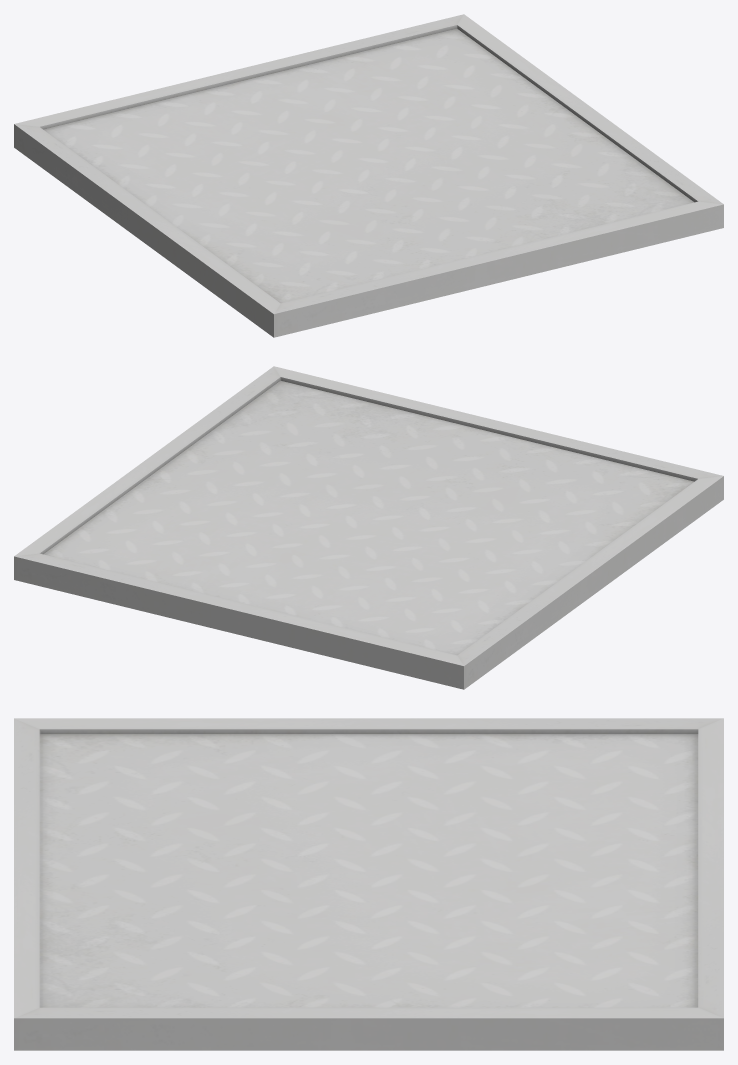
Rendered from Pfb_Stairs_New__3.fbx.
3 views of the same model, one above another, from view 1: azimuth 30°, elevation 25°; view 2: azimuth 150°, elevation 25°; view 3: azimuth 270°, elevation 25° (orthographic). The views are drawn at different scales.
Visible parts, largest first — view 1: Mat_Stairs; view 2: Mat_Stairs; view 3: Mat_Stairs.
Boxes of the visible parts, left/top/right/bottom form: Mat_Stairs: left=14, top=14, right=723, bottom=337; Mat_Stairs: left=14, top=366, right=723, bottom=689; Mat_Stairs: left=14, top=718, right=723, bottom=1050.
Bounding box in the file's own units: 2 × 0.1 × 2.
1 material, 1 textured.
